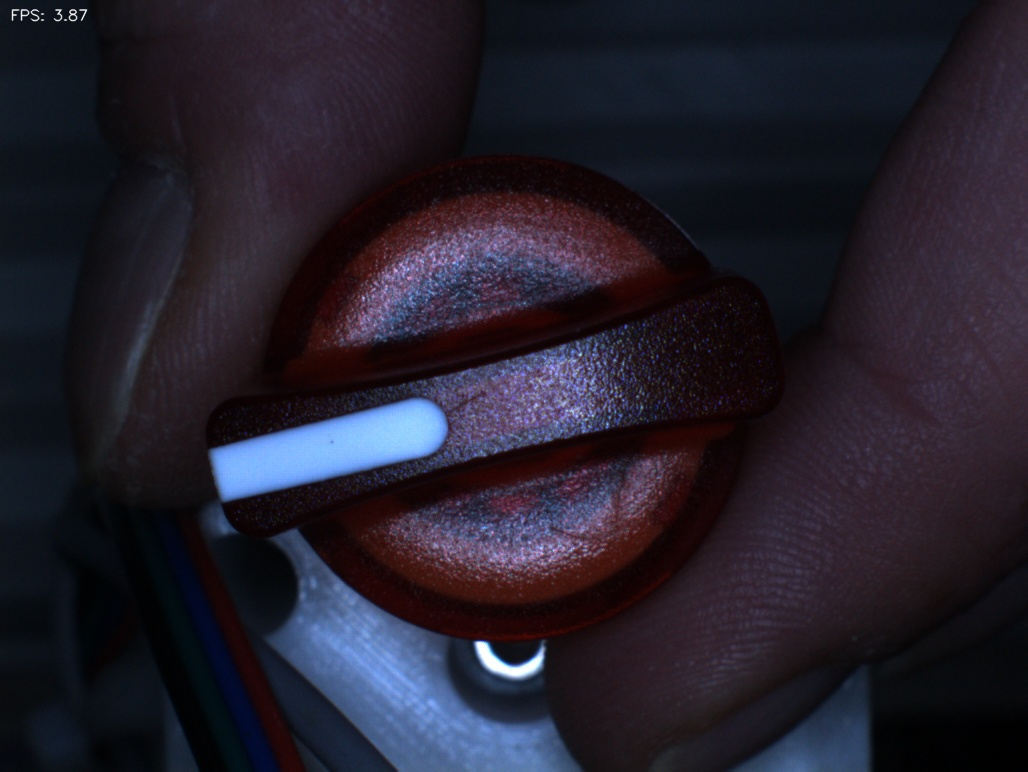PointNoir: (293, 414, 373, 478)
